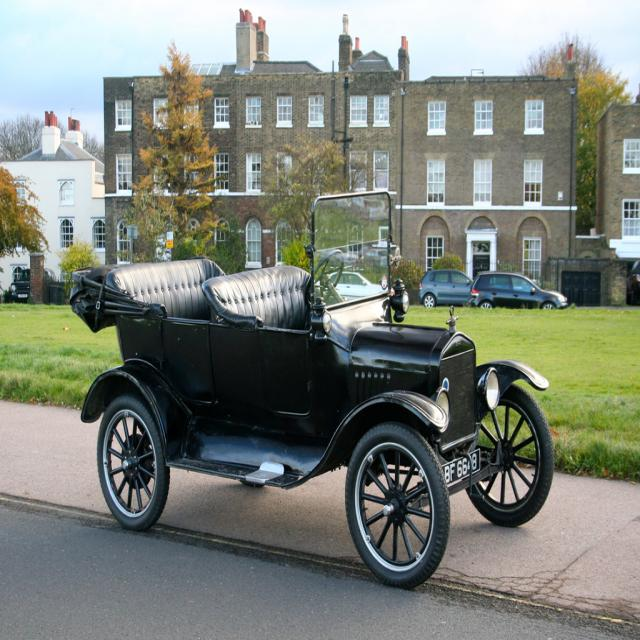car: (70, 186, 556, 592), (467, 266, 566, 309)
